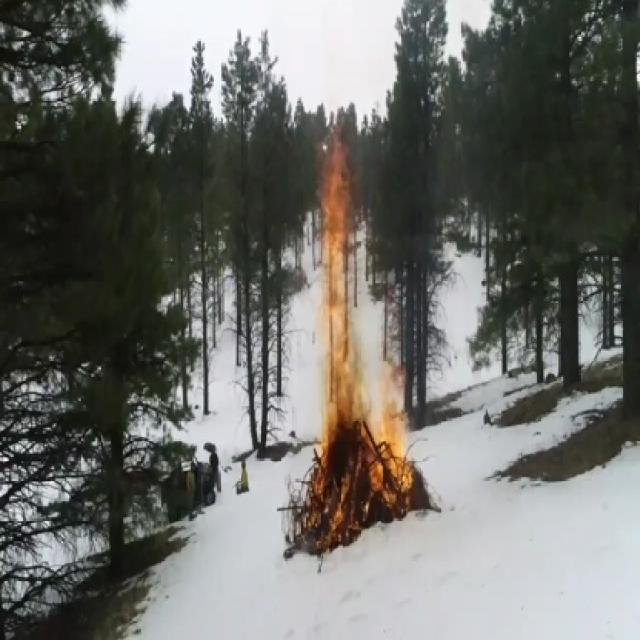Fire: (277, 120, 421, 555)
